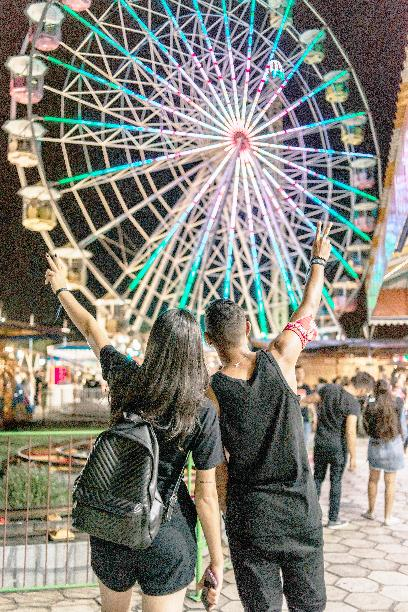Scissors: (309, 217, 337, 268), (40, 248, 69, 295)
